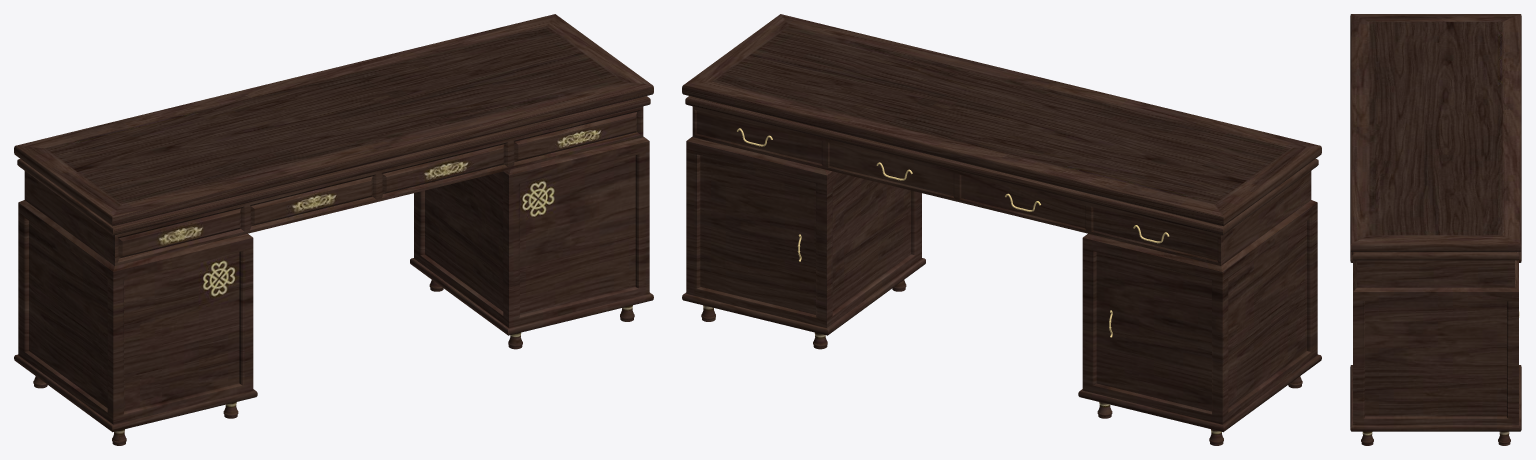
3 renders of one model, left to right at view 1: azimuth 30°, elevation 25°; view 2: azimuth 150°, elevation 25°; view 3: azimuth 270°, elevation 25°, orthographic. The views are drawn at different scales.
Parts seen in each view (by area): view 1: Box041; view 2: Box041; view 3: Box041.
Boxes of the visible parts, box(x1,y1,x2,y2) form: Box041: box(14, 14, 653, 445); Box041: box(682, 14, 1321, 445); Box041: box(1350, 14, 1521, 445).
Bounding box in the file's own units: 2 × 0.837 × 0.6273.
Materials: 1 (1 with a texture image).
